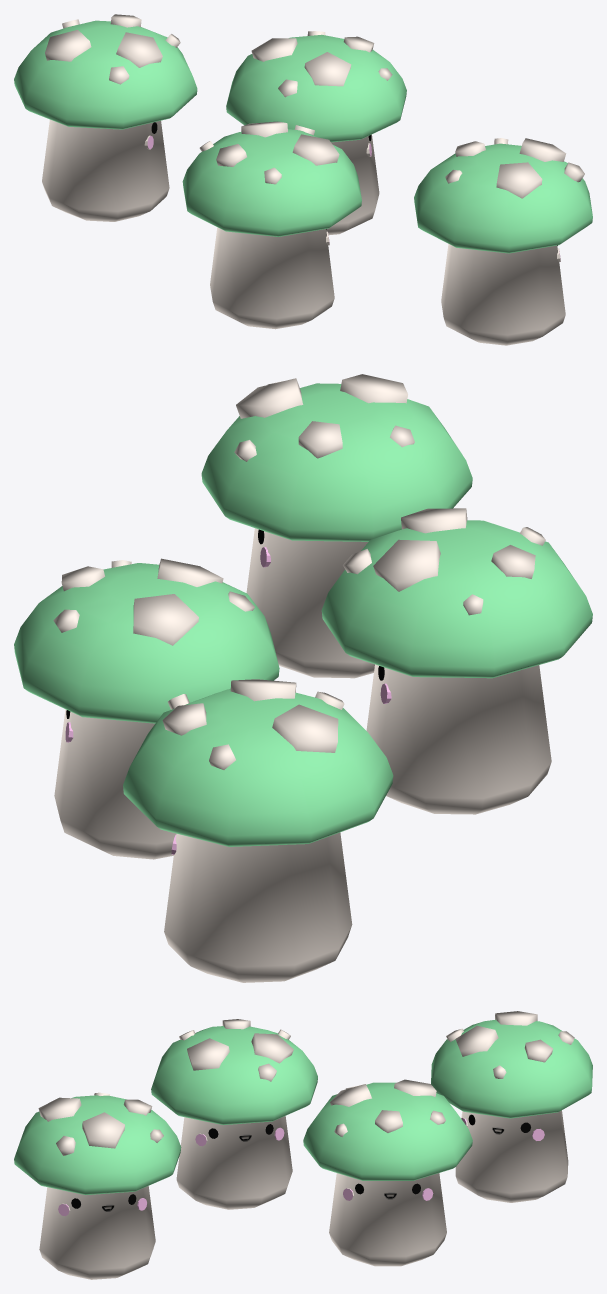
The model's file is cute_mushrooms.fbx.
The picture shows the model from 3 angles, top to bottom: view 1: azimuth 30°, elevation 25°; view 2: azimuth 150°, elevation 25°; view 3: azimuth 270°, elevation 25°; orthographic projection. The views are drawn at different scales.
Parts seen in each view (by area): view 1: Red Mushroom, Pink Mushroom, Green Mushroom, Blue Mushroom; view 2: Pink Mushroom, Green Mushroom, Red Mushroom, Blue Mushroom; view 3: Blue Mushroom, Green Mushroom, Red Mushroom, Pink Mushroom.
Boxes of the visible parts, bbox=[...] form: Red Mushroom: bbox=[414, 138, 592, 345]; Pink Mushroom: bbox=[14, 14, 197, 221]; Green Mushroom: bbox=[182, 121, 361, 329]; Blue Mushroom: bbox=[226, 31, 406, 235]; Pink Mushroom: bbox=[123, 679, 393, 982]; Green Mushroom: bbox=[321, 508, 592, 814]; Red Mushroom: bbox=[201, 374, 472, 678]; Blue Mushroom: bbox=[14, 558, 279, 859]; Blue Mushroom: bbox=[303, 1079, 472, 1266]; Green Mushroom: bbox=[151, 1019, 317, 1209]; Red Mushroom: bbox=[14, 1092, 181, 1279]; Pink Mushroom: bbox=[431, 1011, 592, 1202].
Size of the model in its own units: 63.71 by 32.15 by 105.
